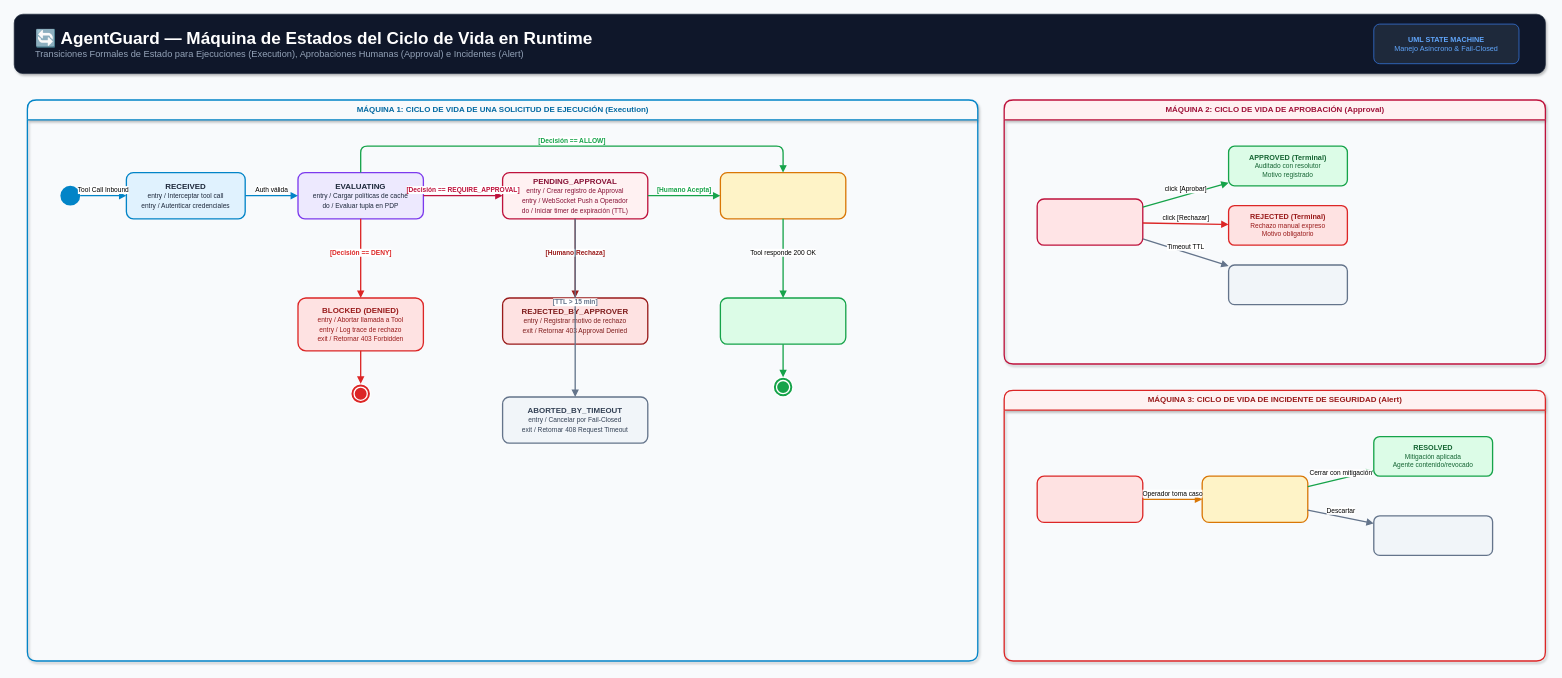
This 1562x678 diagram has some shape labels left out. The shapes that lost their labels are listed below. From the top down, each one's centre as x and y in pixels, then its label:
[782,195]: DISPATCHING entry / Despachar a la API REST do / Esperar respuesta HTTP
[1089,222]: PENDING Visible en bandeja inbox Notificación activa
[1288,284]: EXPIRED (Terminal) Expirado por timeout Cancelación preventiva
[782,321]: COMPLETED entry / Guardar Trace (Status 200) exit / Retornar resultado a Agente
[1089,499]: OPEN Evento disparado por PDP Alerta roja en Dashboard
[1254,499]: INVESTIGATING Asignada a operador Revisión de payload
[1433,535]: DISMISSED Falso positivo descartado Regla ajustada
